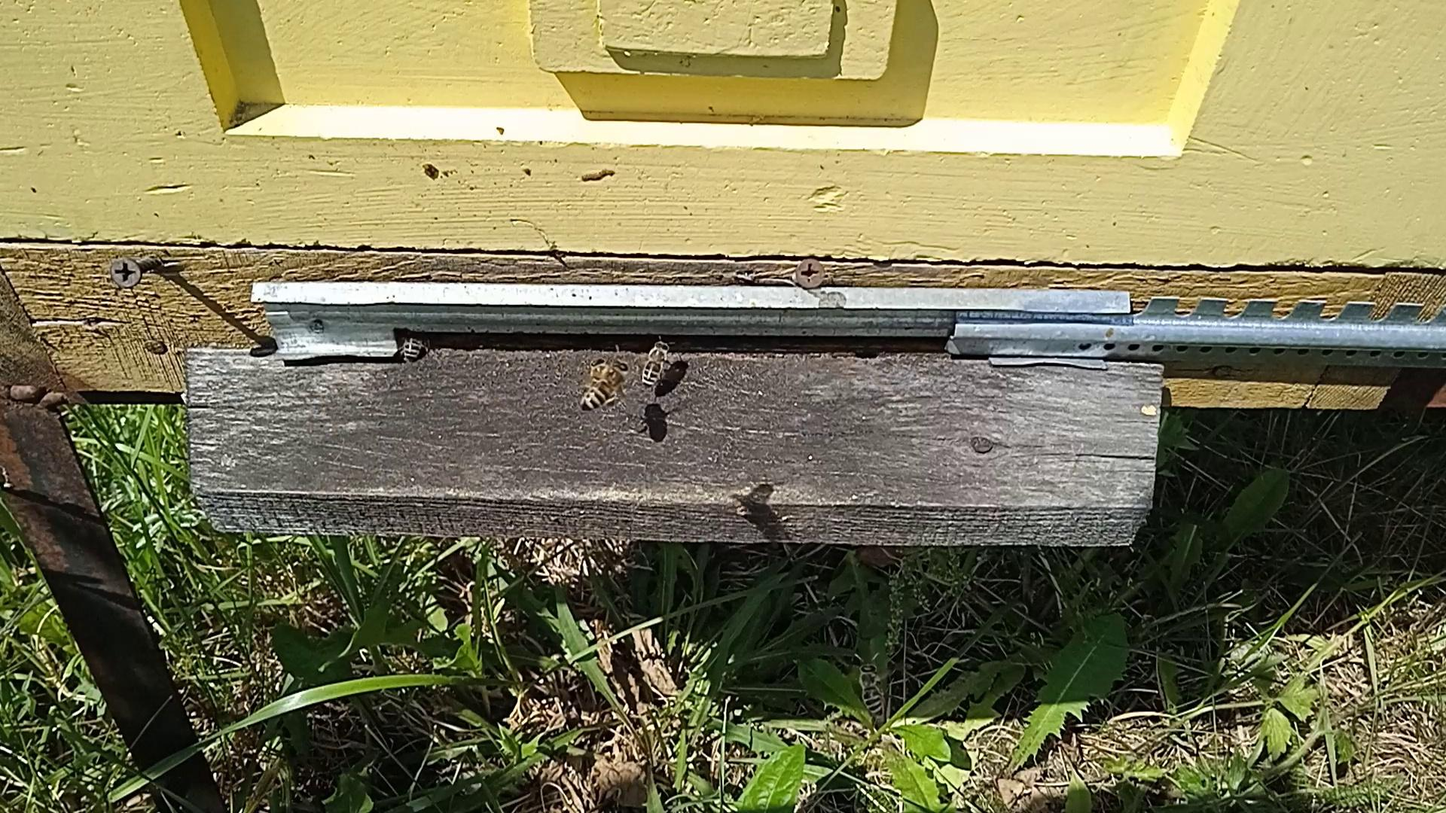worker-bee: (580, 356, 633, 410), (639, 338, 674, 387), (859, 662, 884, 717), (399, 331, 428, 362)
